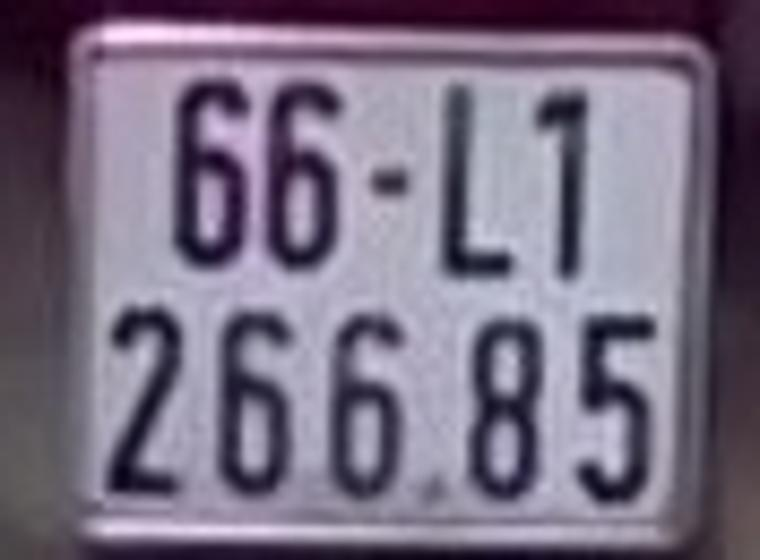-: (366, 165, 413, 208)
.: (414, 471, 460, 512)
1: (530, 78, 598, 284)
2: (94, 300, 191, 500)
5: (576, 305, 662, 513)
6: (327, 305, 414, 508), (259, 76, 350, 270), (218, 299, 301, 503), (169, 71, 252, 271)
8: (466, 307, 551, 505)
L: (436, 82, 521, 279)
